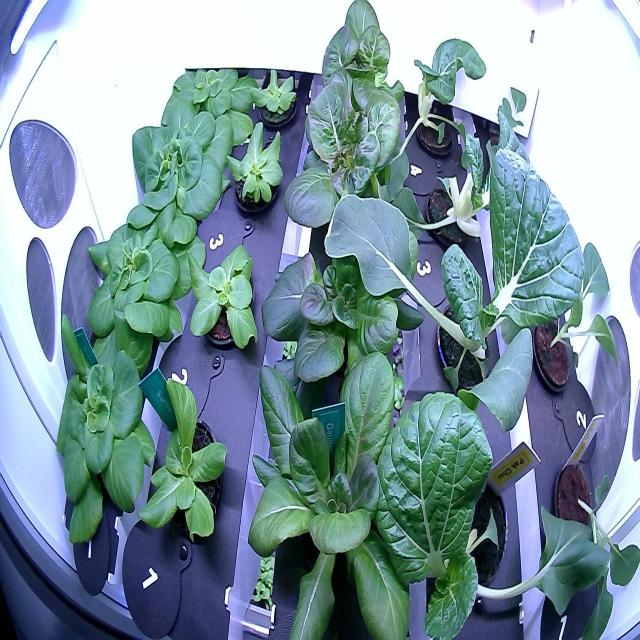young: (232, 342, 440, 640), (255, 182, 427, 398), (36, 315, 157, 557), (277, 58, 423, 250), (70, 200, 212, 381), (134, 373, 242, 566), (115, 92, 239, 248), (305, 0, 410, 122), (184, 230, 264, 366), (155, 60, 260, 160), (220, 117, 289, 226), (247, 58, 304, 137)
